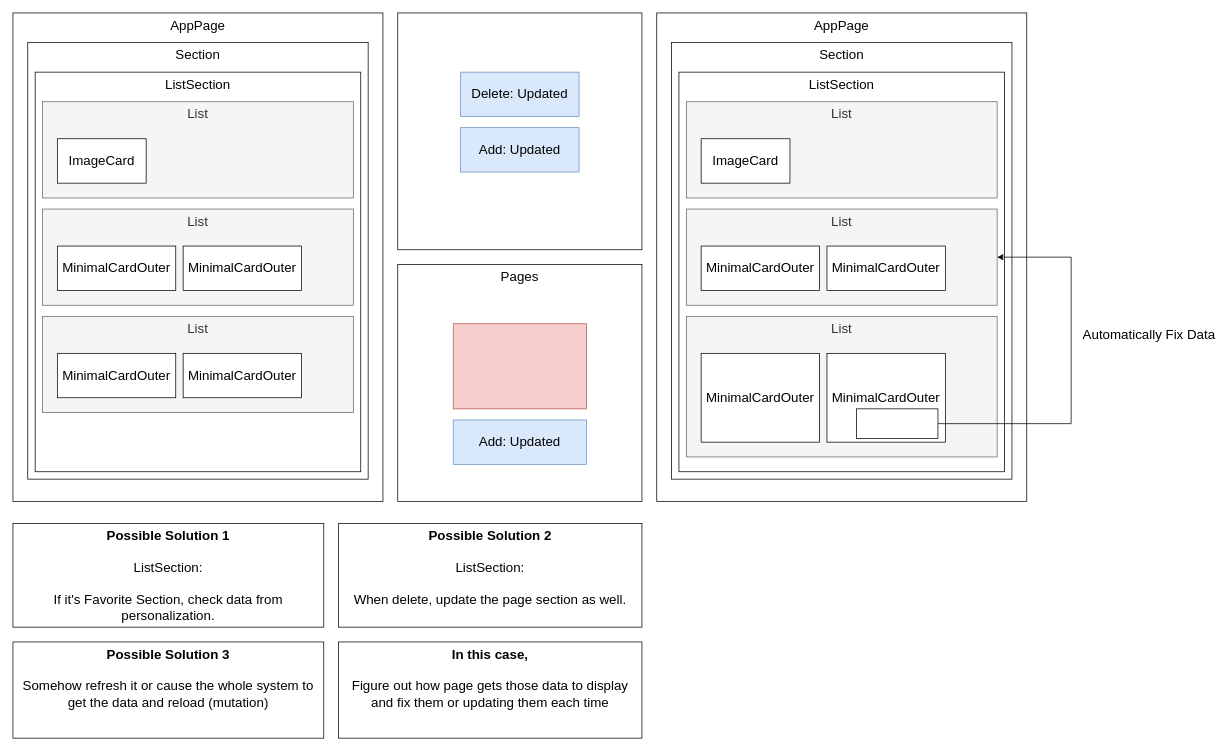
This 1232x751 diagram has some shape labels left out. The box of each missing label's shape, as (x1, y1, x2, y2) in pixels:
Add/Remove: (856, 408, 938, 438)
Delete: Not Updated Favorite My List: (453, 323, 586, 409)
Personalization: (397, 12, 642, 250)
